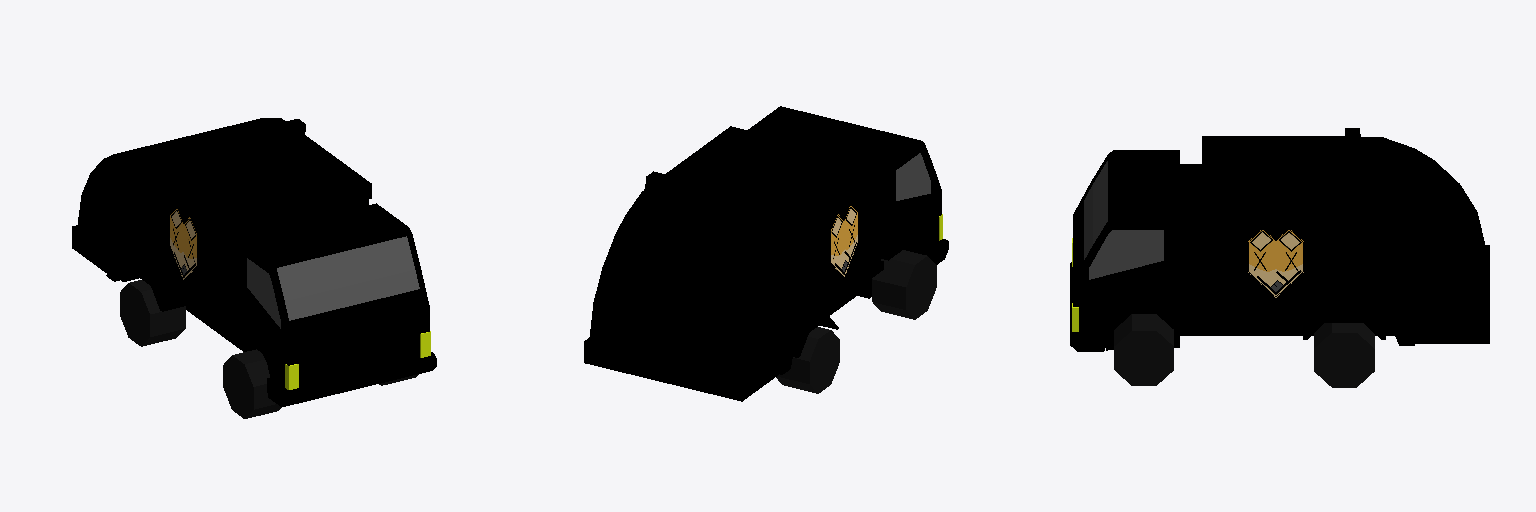
3 renders of one model, left to right at view 1: azimuth 30°, elevation 25°; view 2: azimuth 150°, elevation 25°; view 3: azimuth 270°, elevation 25°, orthographic.
Visible parts, largest first — view 1: GarbageTruck, Wheel.001, Wheel, FoxDecals.001; view 2: GarbageTruck, Wheel, Wheel.001, FoxDecals.001; view 3: GarbageTruck, Wheel, Wheel.001, FoxDecals.
Boxes of the visible parts, x1,y1,x2,y2 form: GarbageTruck: [72, 118, 436, 406]; Wheel.001: [120, 280, 185, 346]; Wheel: [223, 349, 418, 418]; FoxDecals.001: [170, 208, 197, 280]; GarbageTruck: [584, 106, 948, 401]; Wheel: [872, 250, 936, 319]; Wheel.001: [776, 327, 839, 393]; FoxDecals.001: [830, 205, 857, 277]; GarbageTruck: [1070, 128, 1489, 351]; Wheel: [1114, 314, 1173, 385]; Wheel.001: [1314, 323, 1374, 387]; FoxDecals: [1248, 229, 1303, 297].
Size of the model in its own units: 25.87 by 24.5 by 52.88.
Materials: 7 (1 with a texture image).